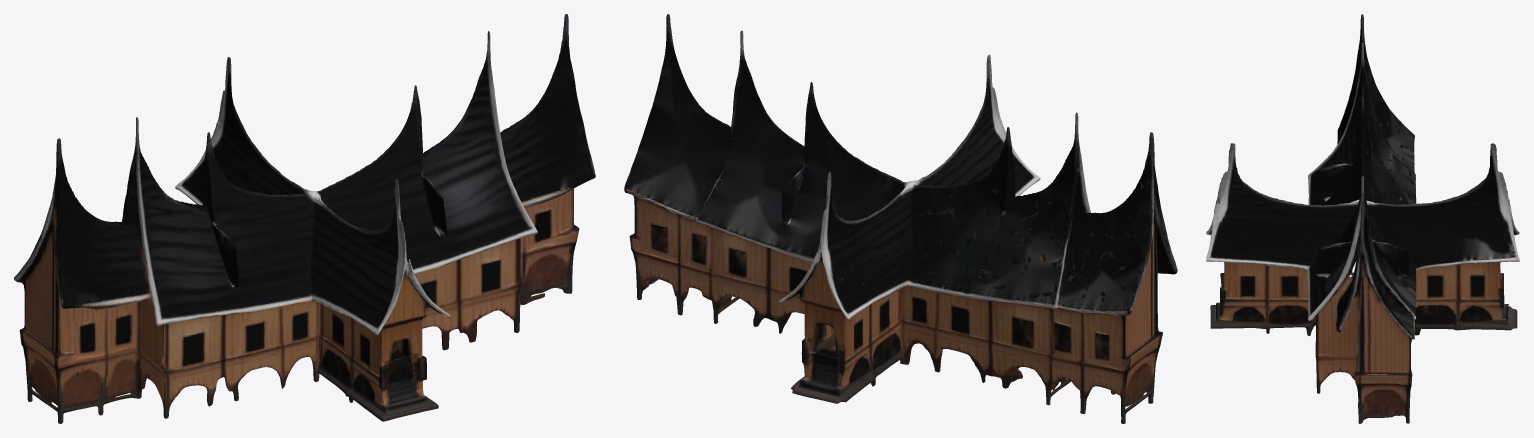
The model's file is Pagaruyung.glb.
3 views of the same model, side by side, from view 1: azimuth 30°, elevation 25°; view 2: azimuth 150°, elevation 25°; view 3: azimuth 270°, elevation 25° (orthographic). The views are drawn at different scales.
Visible parts, largest first — view 1: mesh; view 2: mesh; view 3: mesh.
Boxes of the visible parts, box(x1,y1,x2,y2) form: mesh: box(14, 14, 595, 423); mesh: box(624, 14, 1177, 423); mesh: box(1206, 14, 1519, 423).
Bounding box in the file's own units: 1 × 0.5151 × 0.6548.
Materials: 1 (1 with a texture image).
